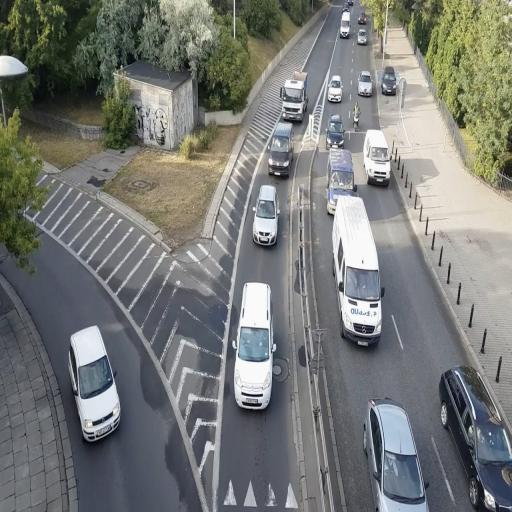vehicle: (439, 364, 512, 509), (332, 193, 383, 347), (362, 396, 429, 512), (68, 324, 122, 444), (234, 281, 273, 410), (327, 149, 355, 217), (252, 185, 279, 247), (362, 129, 391, 186), (280, 74, 308, 127), (268, 121, 292, 177), (327, 115, 344, 143), (381, 68, 398, 95), (328, 73, 342, 103), (358, 72, 372, 96)
